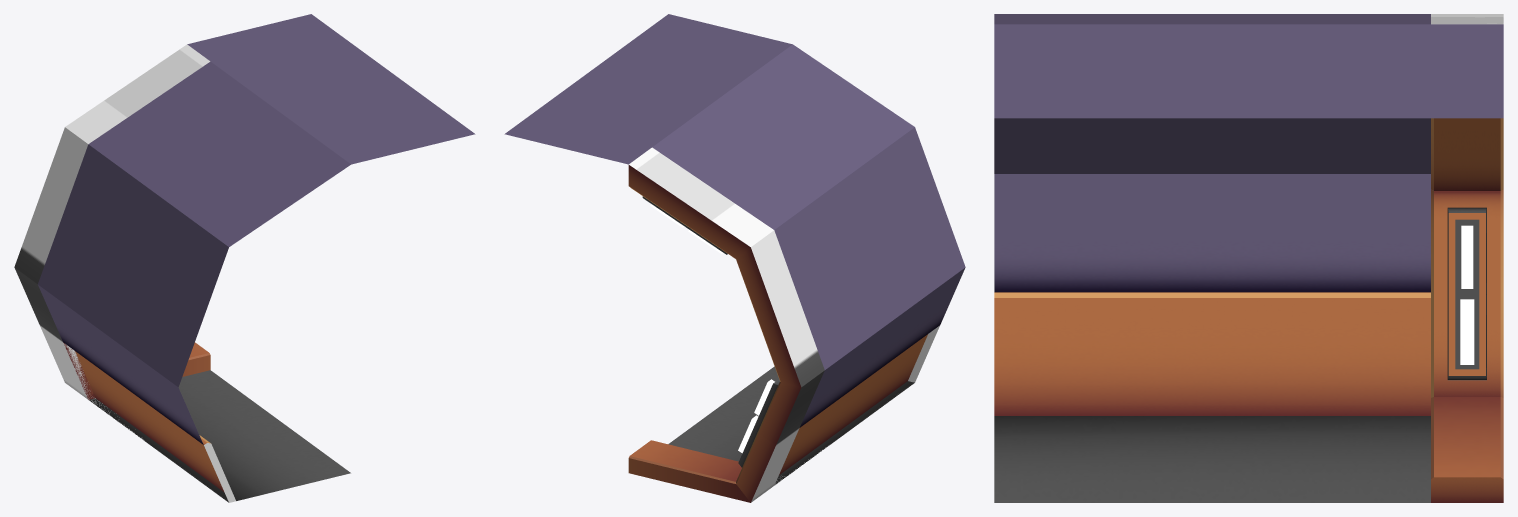
Rendered from Corridor_wall_1.glb.
3 renders of one model, left to right at view 1: azimuth 30°, elevation 25°; view 2: azimuth 150°, elevation 25°; view 3: azimuth 270°, elevation 25°, orthographic. The views are drawn at different scales.
Parts seen in each view (by area): view 1: Corridor_wall_1; view 2: Corridor_wall_1; view 3: Corridor_wall_1.
Part boxes in pixels (x1=…): Corridor_wall_1: x1=14, y1=14, x2=475, y2=502; Corridor_wall_1: x1=504, y1=14, x2=965, y2=502; Corridor_wall_1: x1=994, y1=14, x2=1503, y2=502.
Size of the model in its own units: 3.14 by 3.11 by 3.
2 materials, 1 textured.
